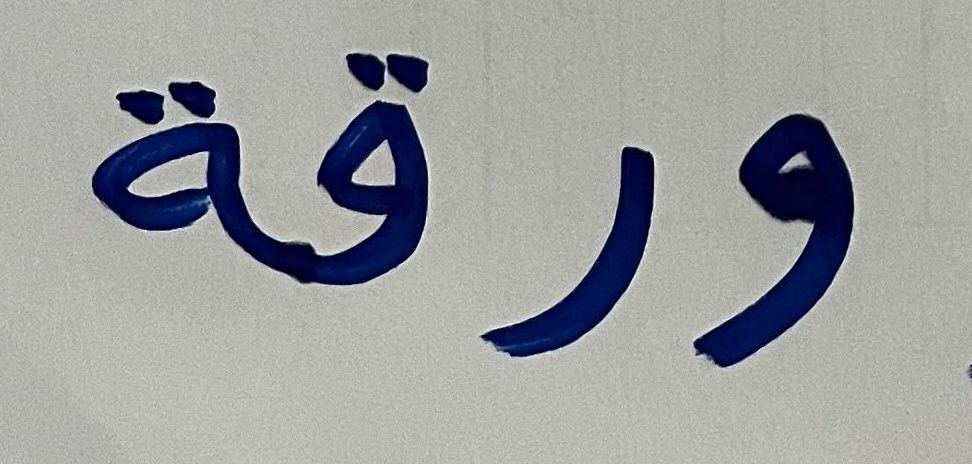qaf: (272, 27, 465, 326)
reh: (478, 83, 676, 393)
teh_marbota: (81, 24, 263, 335)
waw: (686, 74, 905, 420)
